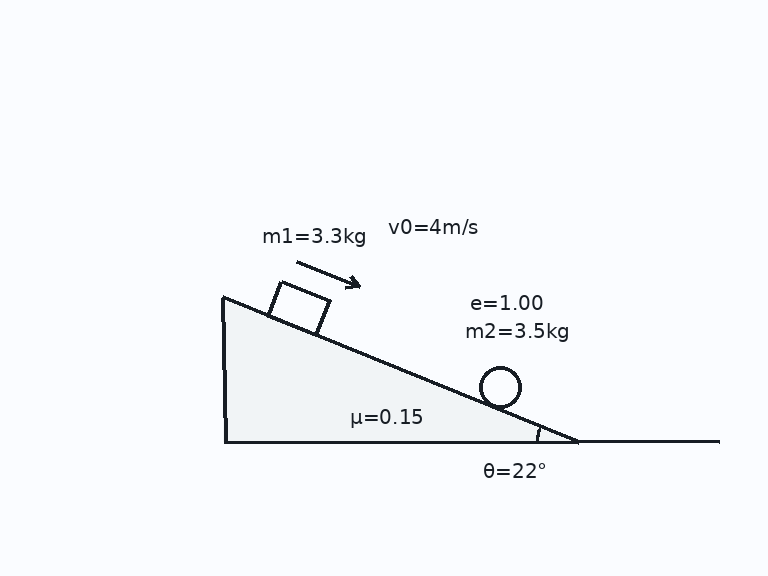ball: (477, 364, 523, 410)
block: (266, 279, 331, 337)
ramp: (222, 296, 579, 443)
